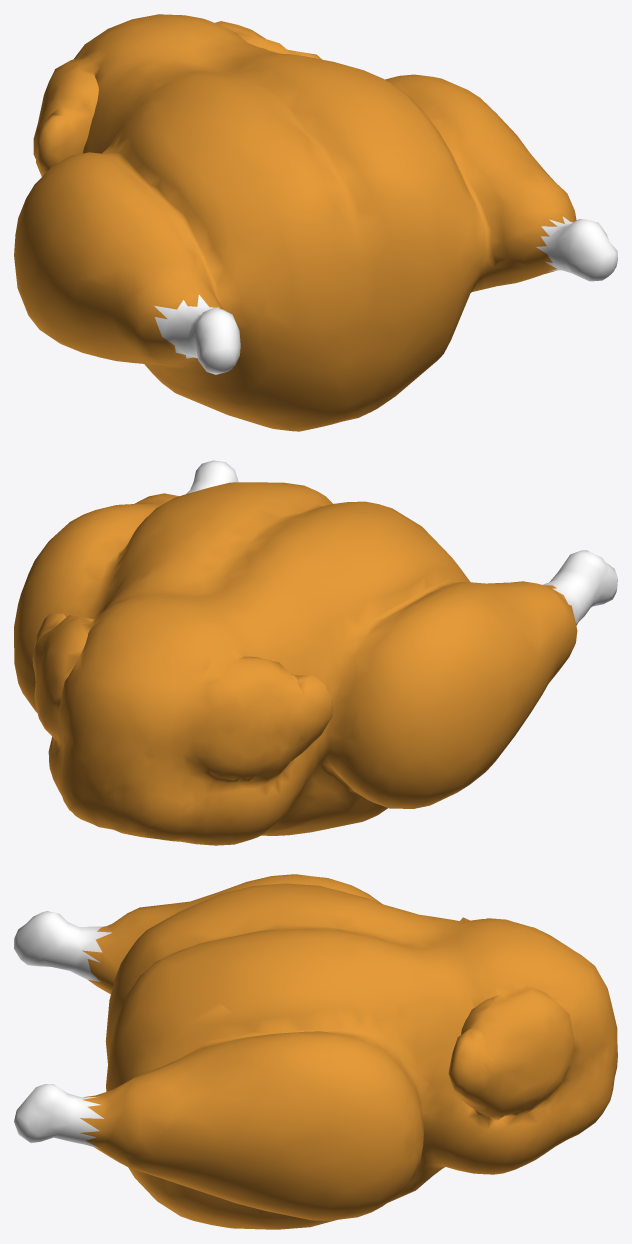
Rendered from uploads_files_4517695_Chicken.fbx.
3 views of the same model, one above another, from view 1: azimuth 30°, elevation 25°; view 2: azimuth 150°, elevation 25°; view 3: azimuth 270°, elevation 25° (orthographic). The views are drawn at different scales.
Parts seen in each view (by area): view 1: Food2; view 2: Food2; view 3: Food2.
Boxes of the visible parts, x1,y1,x2,y2 form: Food2: (14, 14, 617, 431); Food2: (14, 460, 617, 845); Food2: (14, 874, 617, 1229).
Size of the model in its own units: 4.71 by 2.92 by 5.43.
Materials: 2 (1 with a texture image).
